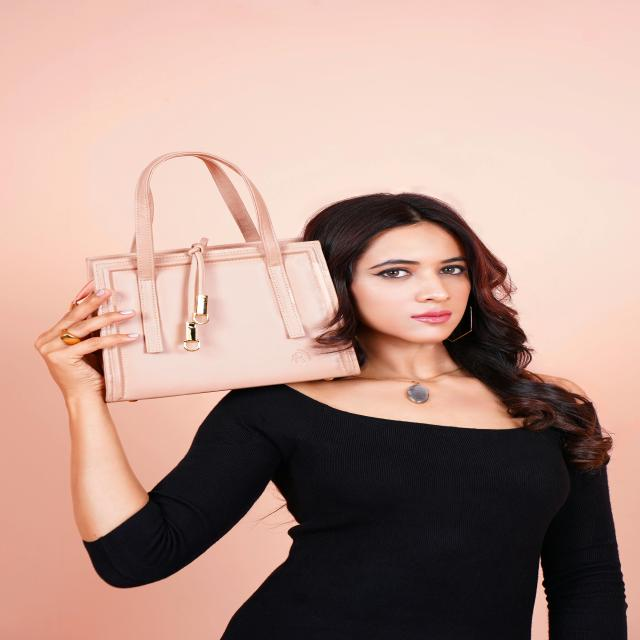bolsa: (86, 151, 362, 403)
